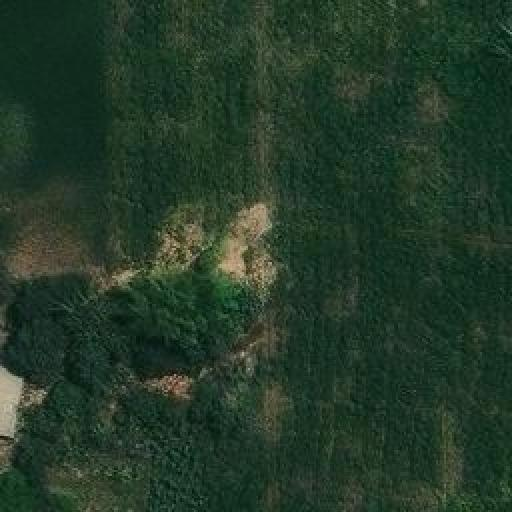manzanas: (0, 368, 25, 448)
